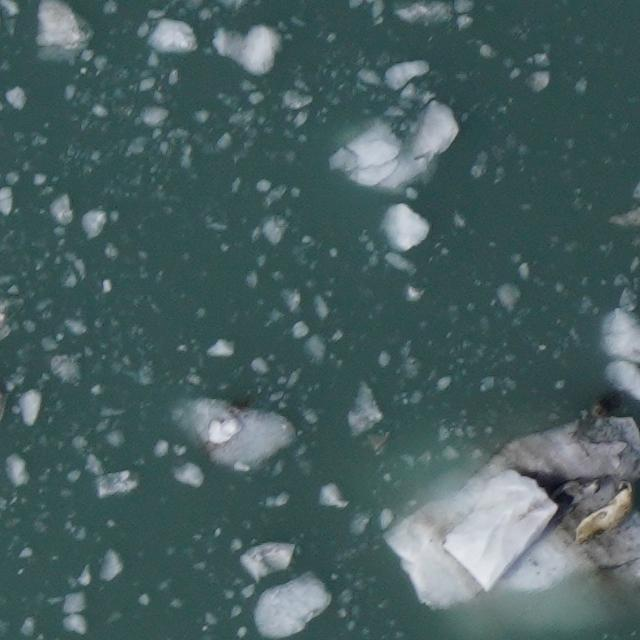seal: (570, 476, 640, 551)
